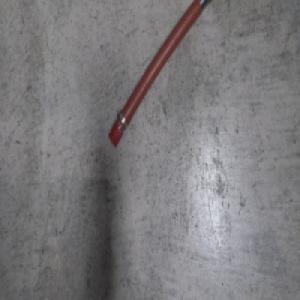Hose: (107, 0, 216, 150)
